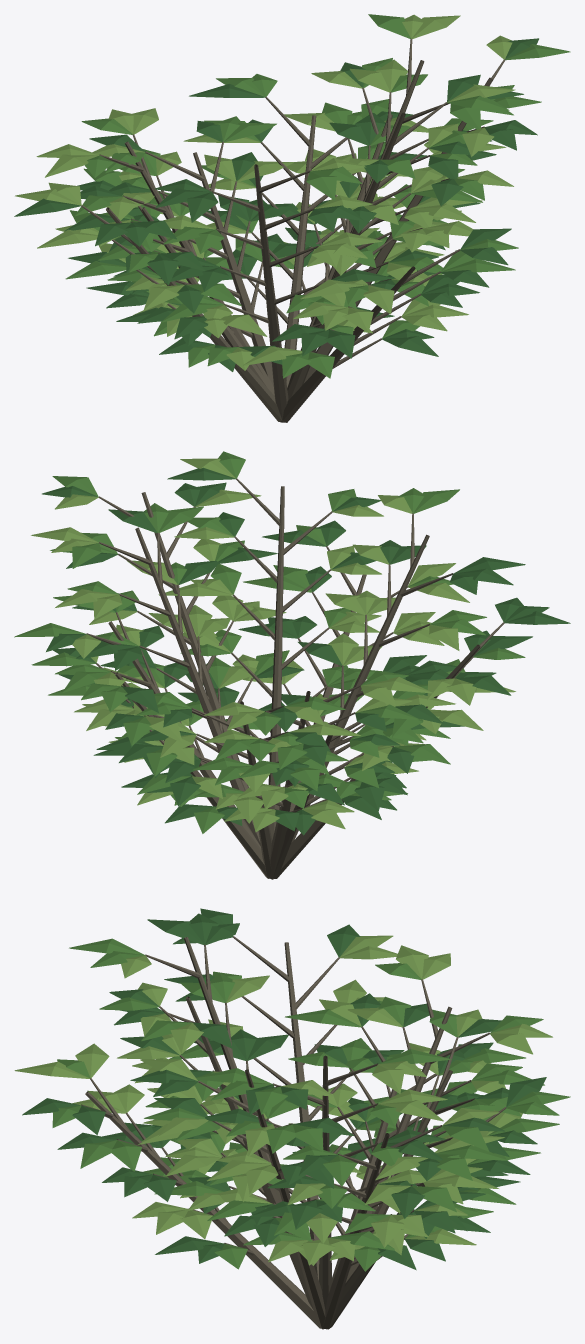
Rendered from SM_ForestBush.fbx.
3 renders of one model, top to bottom at view 1: azimuth 30°, elevation 25°; view 2: azimuth 150°, elevation 25°; view 3: azimuth 270°, elevation 25°, orthographic. The views are drawn at different scales.
Parts seen in each view (by area): view 1: SM_ForestBush; view 2: SM_ForestBush; view 3: SM_ForestBush.
Boxes of the visible parts, box(x1,y1,x2,y2) form: SM_ForestBush: box(14, 14, 570, 422); SM_ForestBush: box(14, 451, 570, 879); SM_ForestBush: box(14, 908, 570, 1329).
Bounding box in the file's own units: 200 × 130 × 179.
